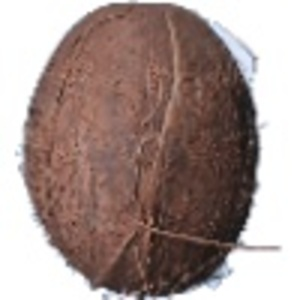coco: (16, 2, 278, 300)
